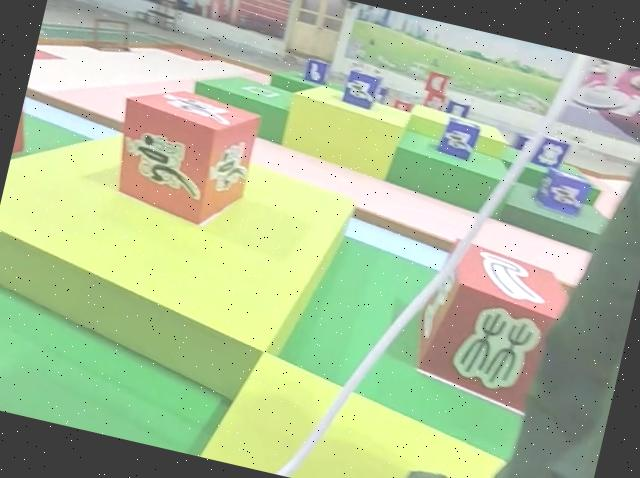R1: (97, 70, 267, 237)
R2 Fake: (400, 229, 599, 424)
